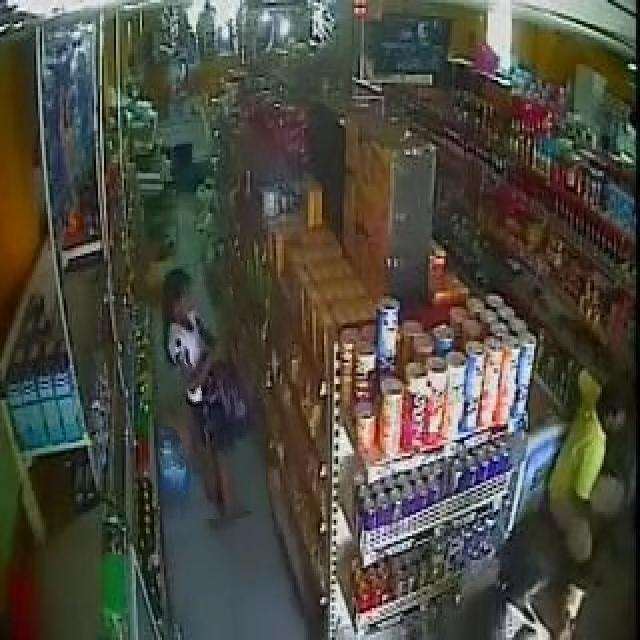Shoplifting: (164, 262, 266, 519)
